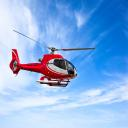helicopter: (10, 29, 99, 92)
